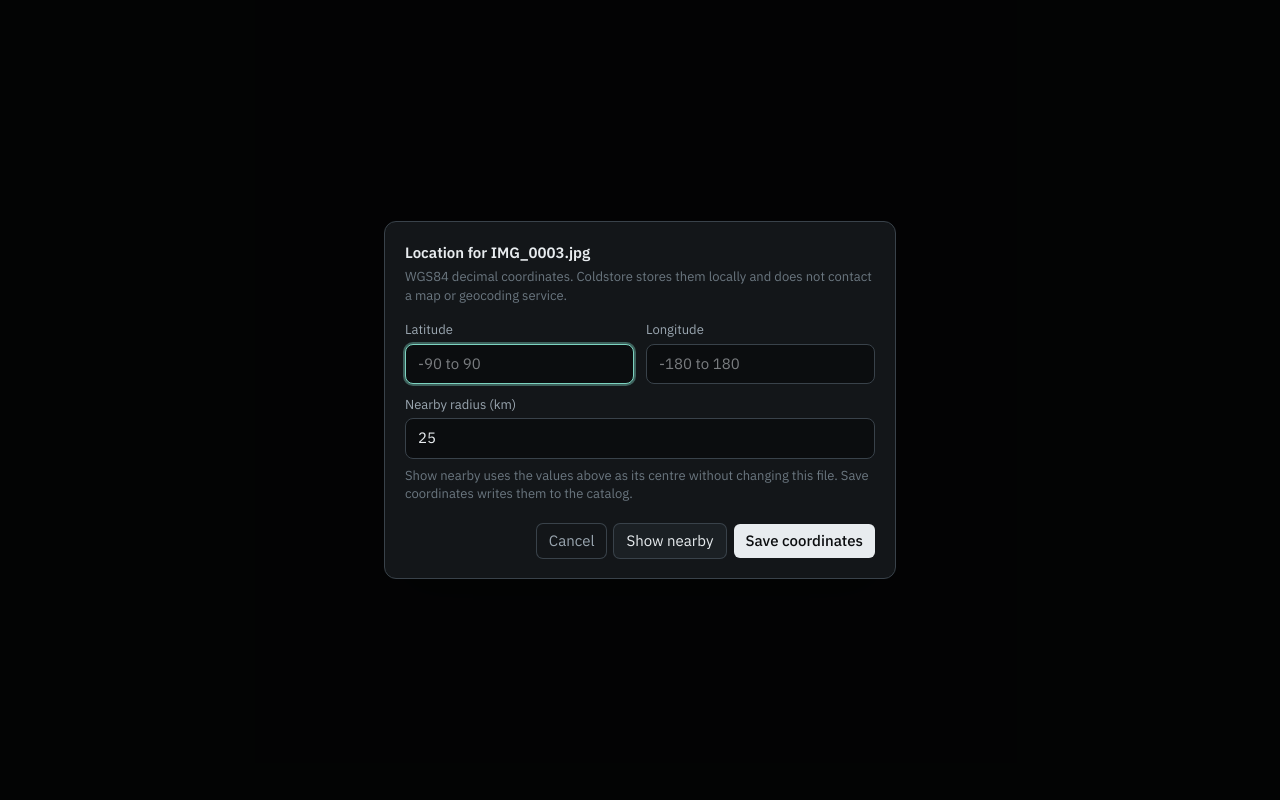
Test: LocationEditor › should explain invalid finite and range values instead of saving
Step 1. Type "91" into the field labelled "Latitude" → (520, 364), box [405, 344, 634, 384]
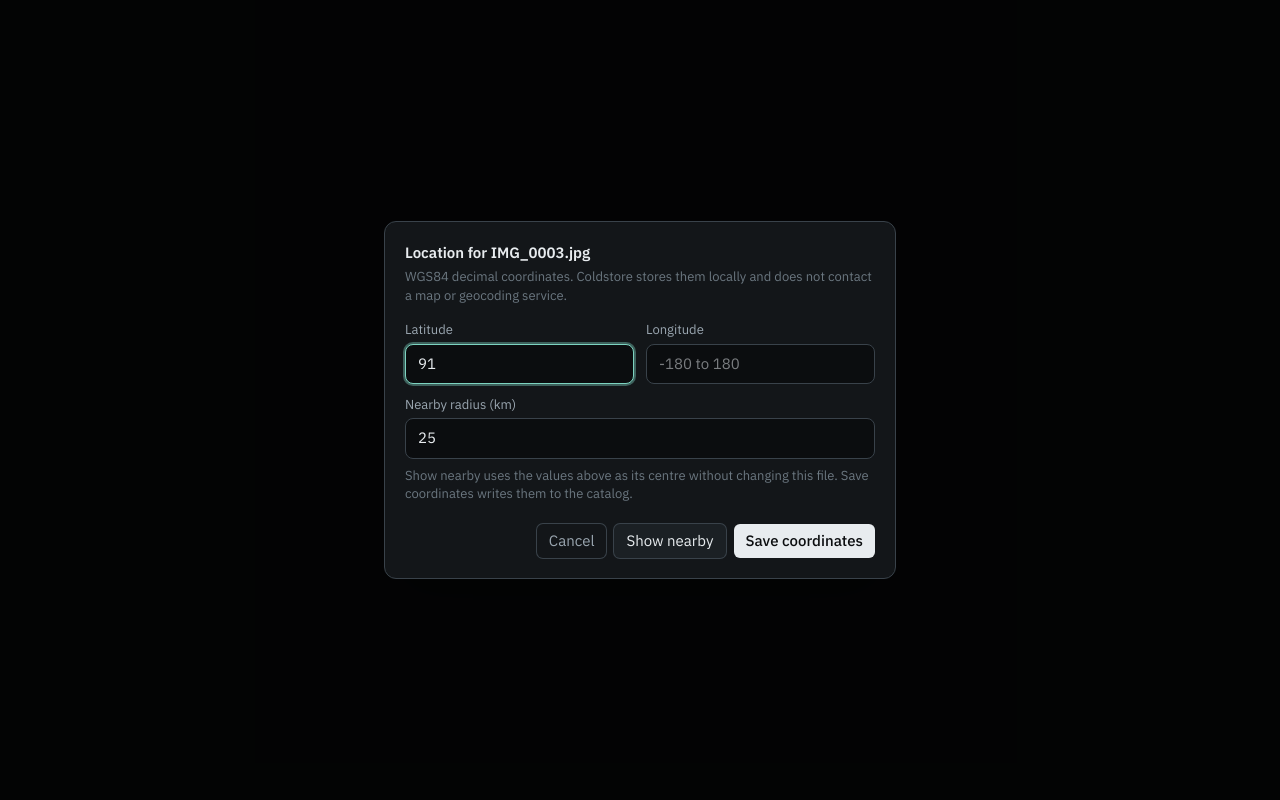
Step 2. Type "0" into the field labelled "Longitude" → (760, 364), box [646, 344, 875, 384]
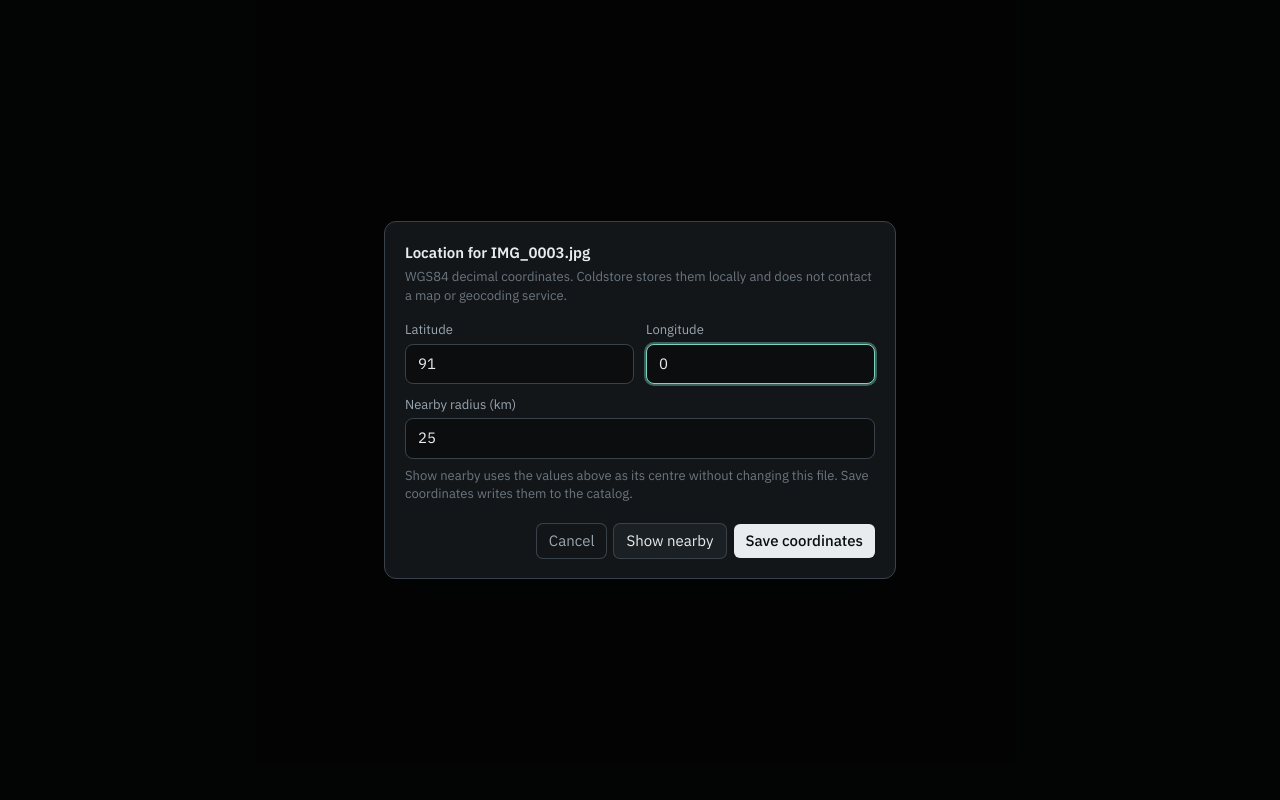
Step 3. Click the button "Save coordinates" → (804, 541), box [734, 524, 875, 558]
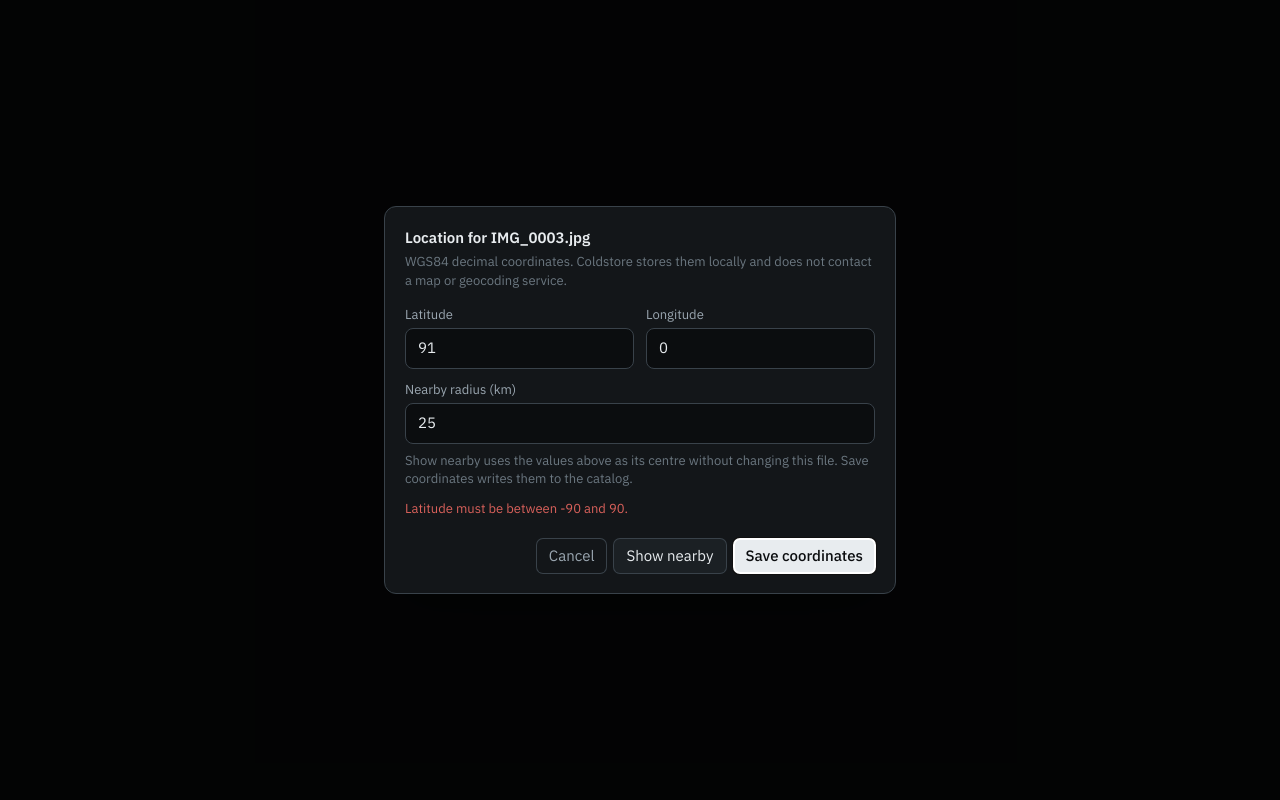
Expected: the message shows "Latitude must be between -90 and 90", [405, 500, 628, 517]
